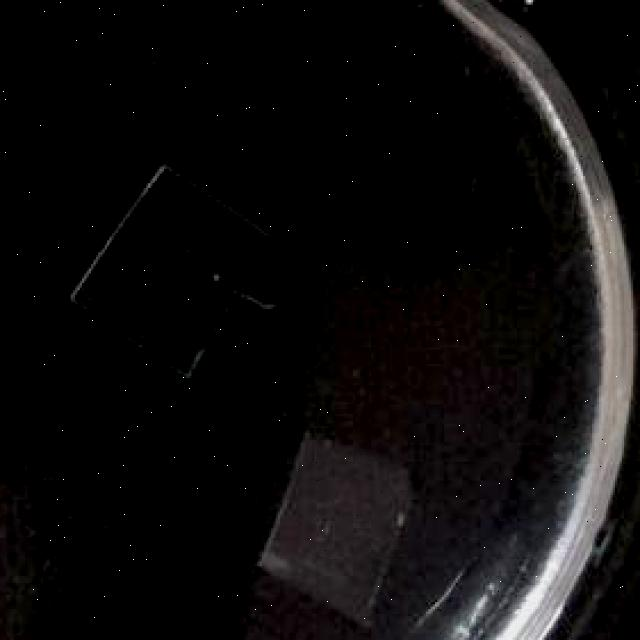Microplastic: (61, 152, 269, 388), (255, 433, 419, 623)
